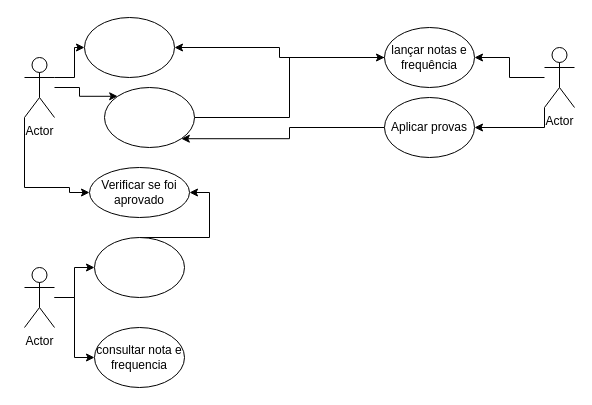
Image size: 592x405. Some labels were removed from this diagram. Here are the shapes that lost their labels. From the top down, the box of each, then its label:
(84, 16, 174, 78): consultar nota e frequência
(104, 86, 194, 148): realizar prova
(94, 236, 184, 298): realizar aprovação
